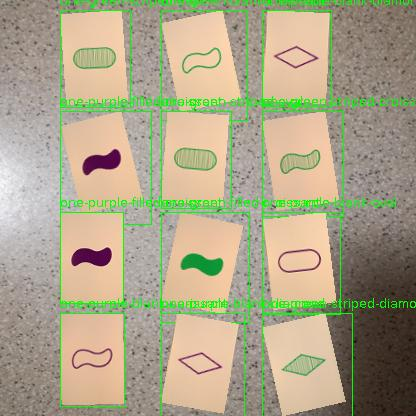one-green-blank-croissant: (161, 10, 247, 120)
one-green-filled-croissant: (161, 212, 249, 322)
one-green-striped-croissant: (262, 111, 343, 216)
one-green-striped-diamond: (262, 313, 352, 416)
one-green-striped-oval: (60, 10, 130, 107), (161, 111, 231, 208)
one-purple-blank-corissant: (60, 313, 124, 406)
one-purple-blank-diamond: (161, 313, 244, 416), (262, 10, 331, 106)
one-purple-blank-oval: (262, 212, 340, 314)
one-purple-filled-croissant: (60, 111, 151, 224), (60, 212, 123, 303)
